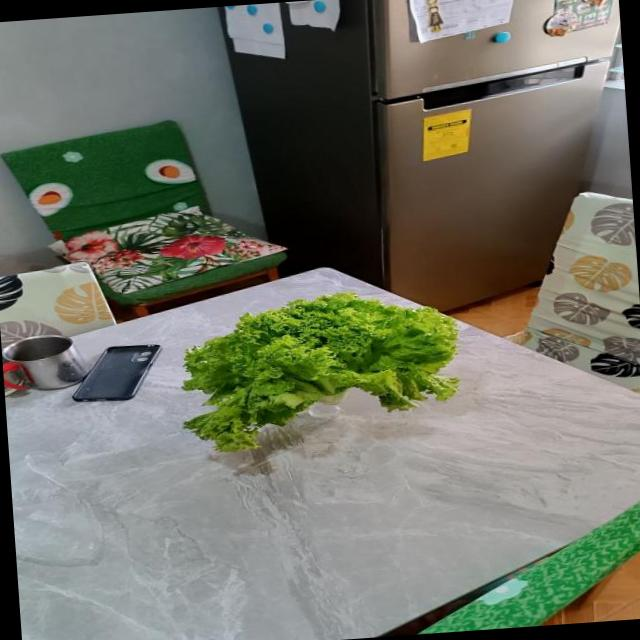Lettuce-Ready-to-Harvest: (183, 292, 458, 450)
